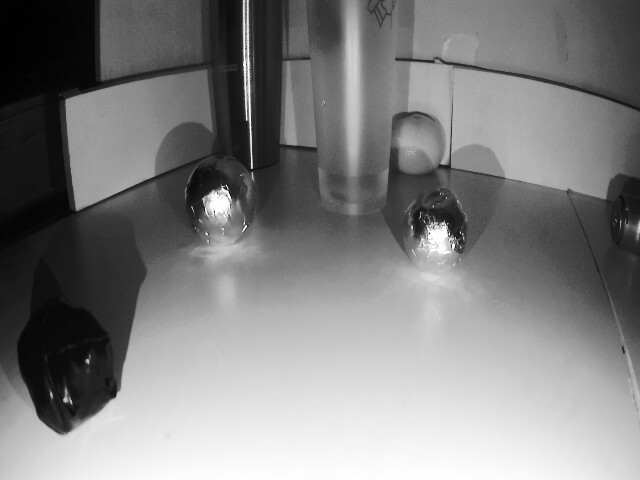black: (178, 160, 268, 247), (405, 180, 464, 279)
silver: (15, 308, 119, 438)
